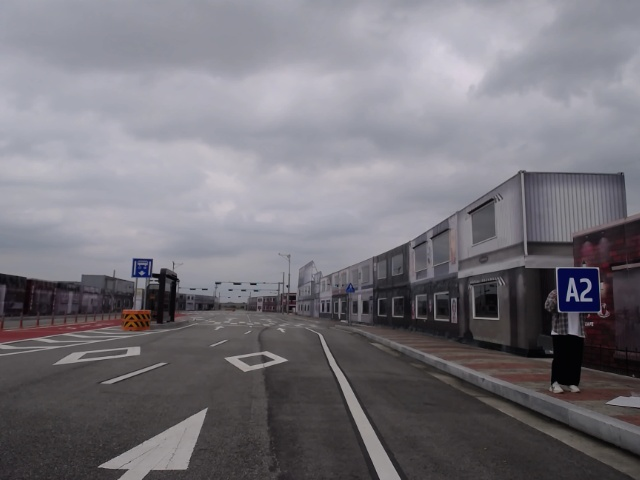delivery_a2: (557, 267, 601, 313)
